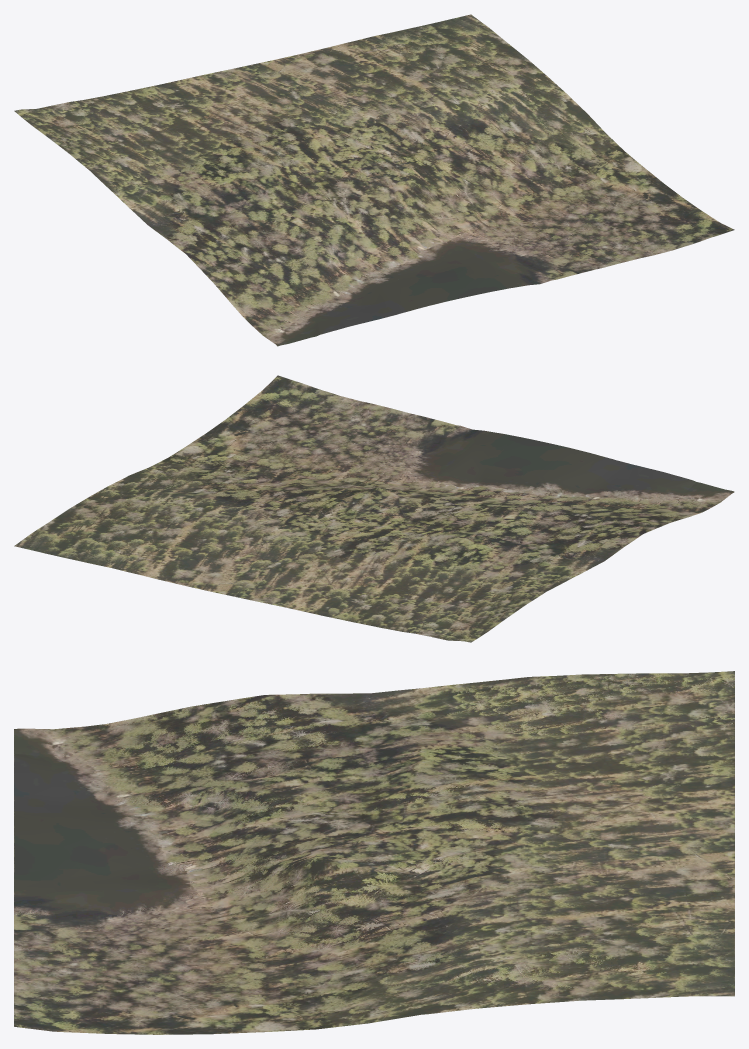
Rendered from CM_Terrain_24492506_6814060.fbx.
The picture shows the model from 3 angles, top to bottom: view 1: azimuth 30°, elevation 25°; view 2: azimuth 150°, elevation 25°; view 3: azimuth 270°, elevation 25°; orthographic projection. The views are drawn at different scales.
Visible parts, largest first — view 1: CM_Terrain_24492506_6814060_LOD0; view 2: CM_Terrain_24492506_6814060_LOD0; view 3: CM_Terrain_24492506_6814060_LOD0.
Part boxes in pixels (box(x1,y1,x2,y2)): CM_Terrain_24492506_6814060_LOD0: box(14, 14, 734, 346); CM_Terrain_24492506_6814060_LOD0: box(14, 375, 734, 642); CM_Terrain_24492506_6814060_LOD0: box(14, 671, 734, 1034).
Size of what is drawn, in the model's own units: 205 by 19.77 by 205.
